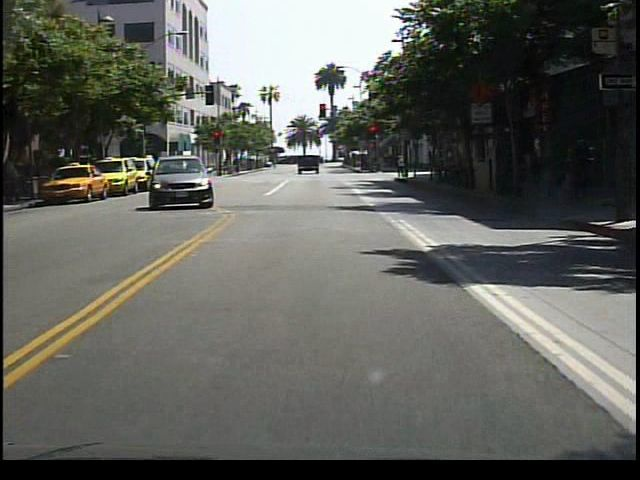person: (395, 151, 409, 179)
